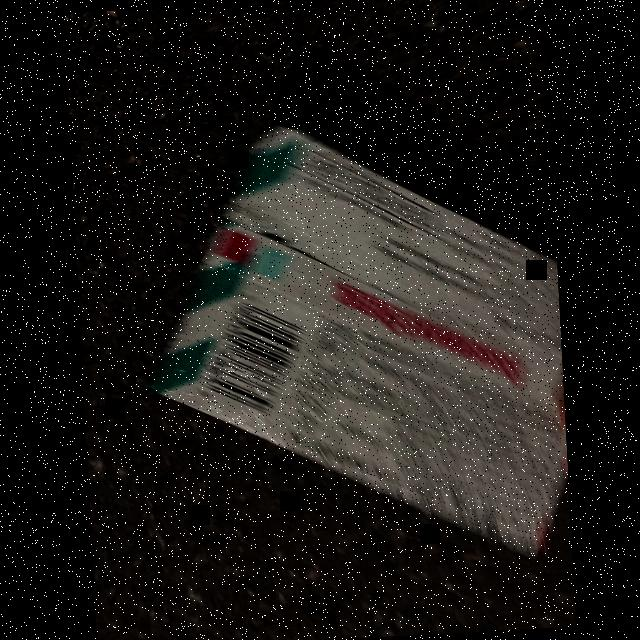snack_bag: (156, 83, 573, 582)
